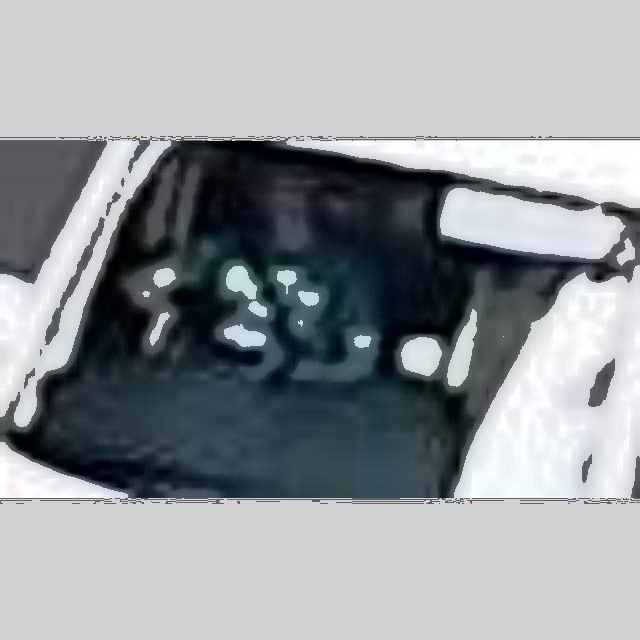pakai: (171, 186, 365, 394)
